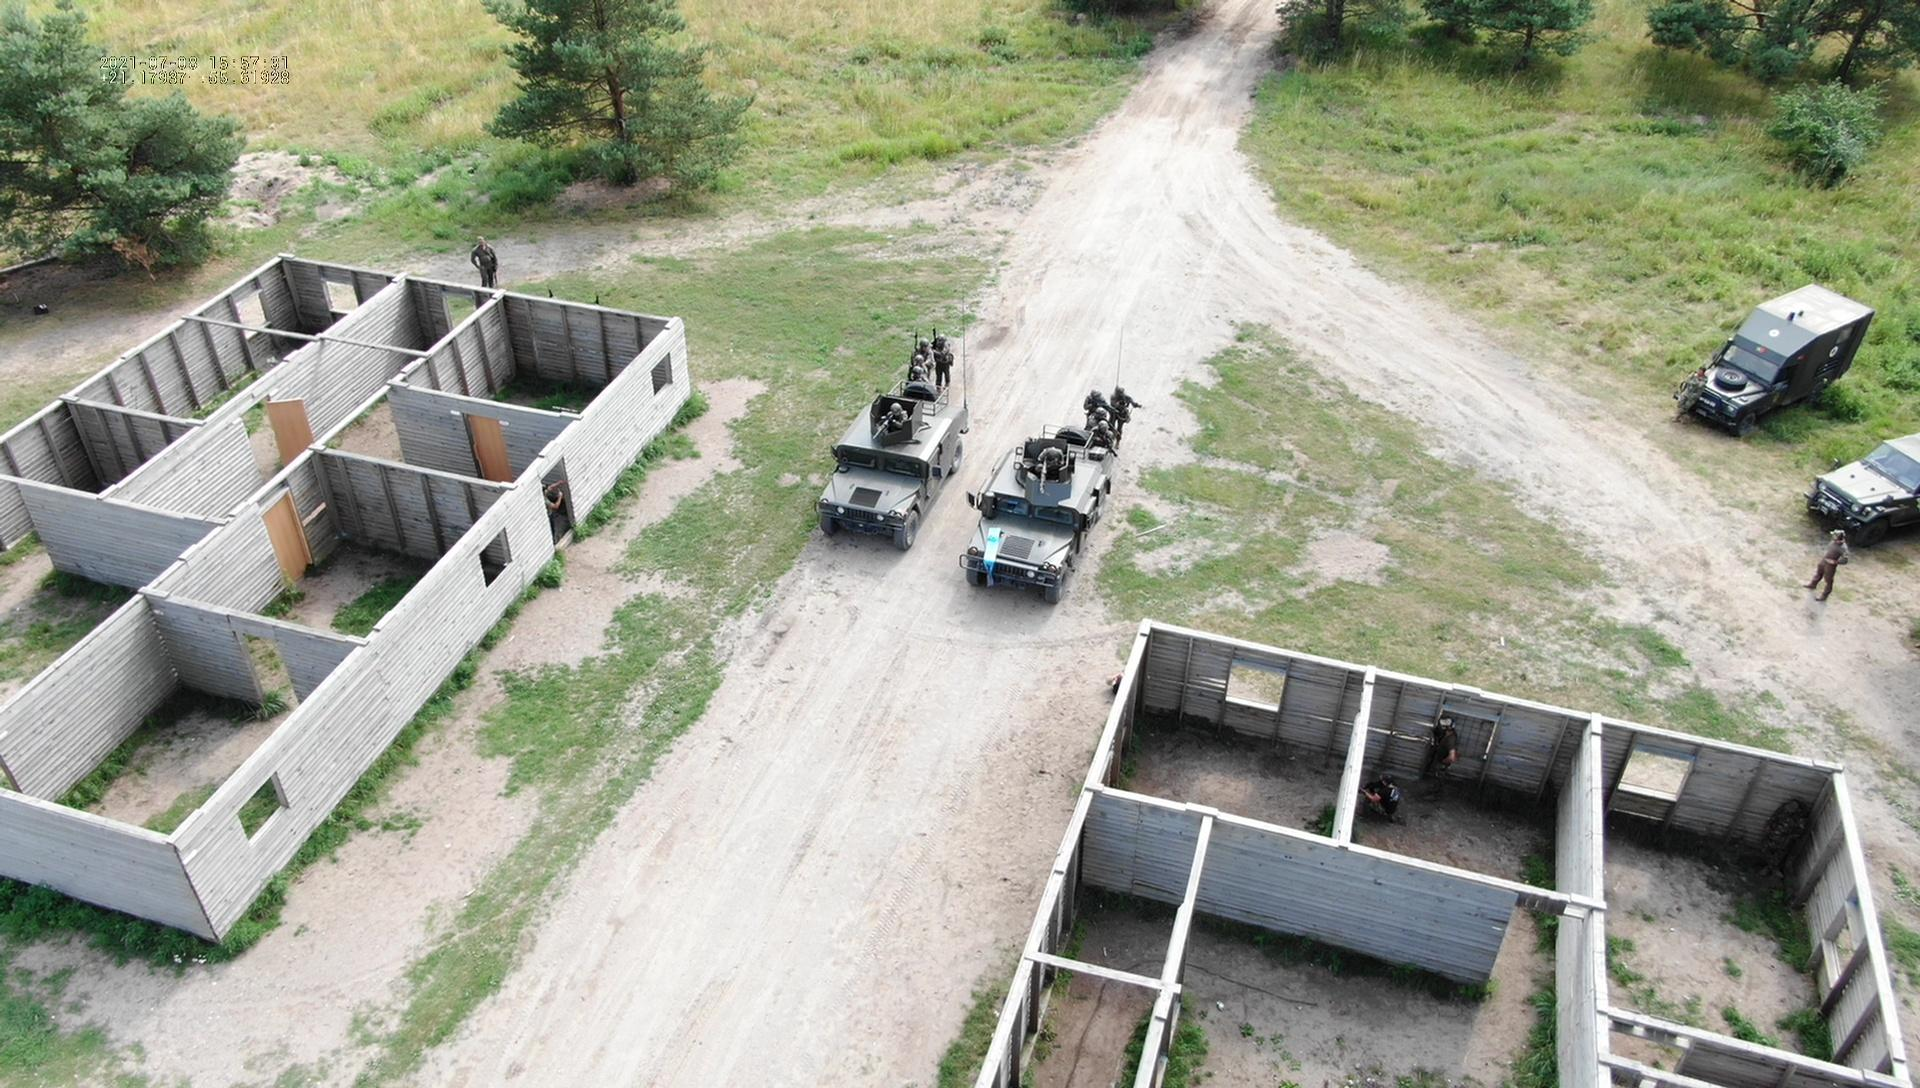Soldier: (1804, 518, 1861, 616), (1422, 720, 1465, 818), (1354, 770, 1414, 833), (1675, 360, 1718, 426), (463, 232, 506, 290), (926, 328, 959, 397), (1036, 444, 1077, 491), (880, 404, 920, 450), (1106, 386, 1135, 444), (1096, 408, 1124, 458), (1084, 386, 1117, 421), (907, 349, 938, 385)
